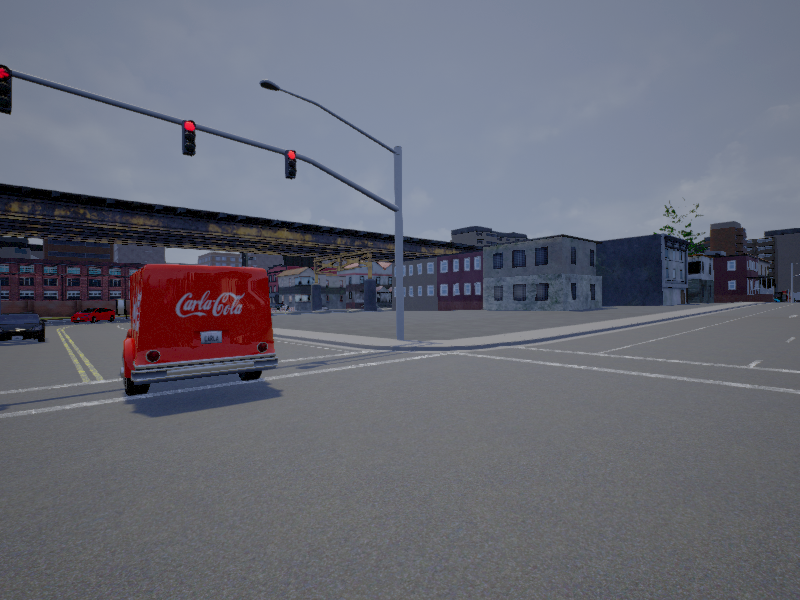Benign: (122, 268, 274, 397), (1, 311, 47, 344), (74, 309, 117, 323)
